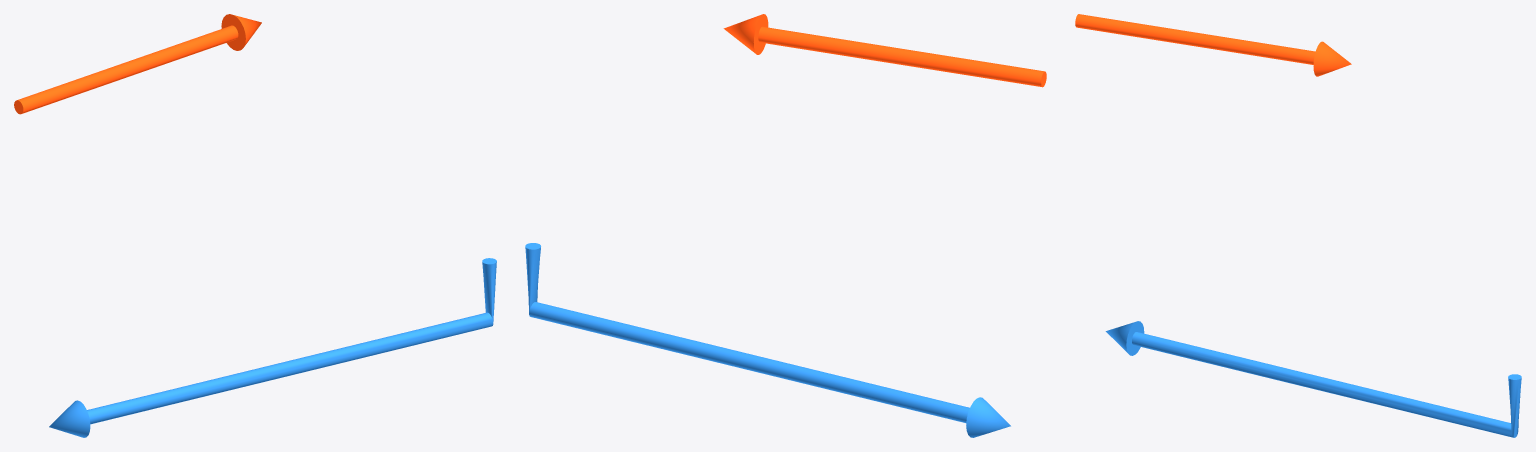
File: sodium_oxalate_filter_flow.glb
3 renders of one model, left to right at view 1: azimuth 30°, elevation 25°; view 2: azimuth 150°, elevation 25°; view 3: azimuth 330°, elevation 25°, orthographic. The views are drawn at different scales.
Parts seen in each view (by area): view 1: filtrate, feed; view 2: filtrate, feed; view 3: filtrate, feed.
Boxes of the visible parts, x1=… form: filtrate: x1=49, y1=258, x2=496, y2=437; feed: x1=14, y1=14, x2=261, y2=114; filtrate: x1=525, y1=243, x2=1010, y2=437; feed: x1=723, y1=14, x2=1046, y2=87; filtrate: x1=1105, y1=321, x2=1521, y2=437; feed: x1=1075, y1=14, x2=1351, y2=76.
Size of the model in its own units: 1.12 by 0.808 by 0.1701.
